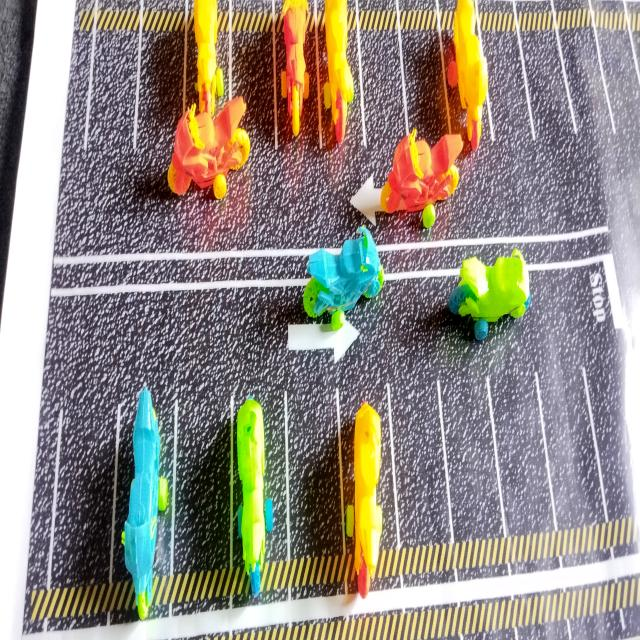bikes: (168, 97, 250, 199), (303, 226, 382, 329), (381, 129, 463, 228), (449, 250, 530, 340)
occupied: (110, 387, 175, 618), (336, 380, 399, 598), (230, 395, 290, 595), (441, 0, 494, 150), (316, 0, 366, 148), (280, 0, 322, 139), (183, 0, 232, 116)
slots: (51, 405, 117, 585), (173, 389, 231, 572), (541, 361, 602, 525), (491, 373, 553, 534), (287, 381, 342, 559), (443, 378, 503, 540), (393, 381, 449, 544), (136, 30, 184, 176), (87, 31, 139, 154), (559, 28, 616, 140), (598, 29, 640, 169), (360, 30, 406, 145), (520, 30, 567, 140), (232, 23, 274, 144), (403, 32, 447, 144), (486, 35, 527, 144)
